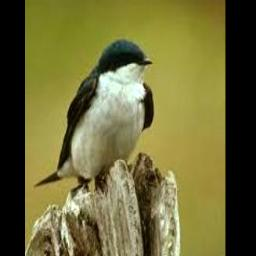Swallow: (35, 39, 153, 189)
